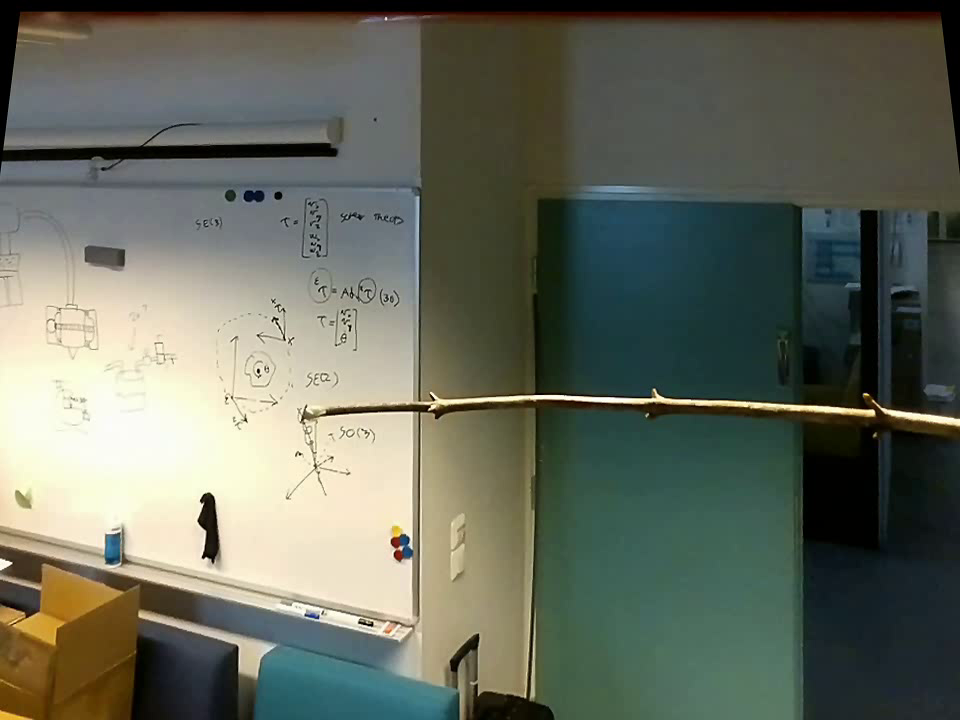aluminum_frame: (2, 521, 418, 646), (1, 175, 415, 199), (406, 185, 425, 632)
branch: (331, 374, 953, 433)
